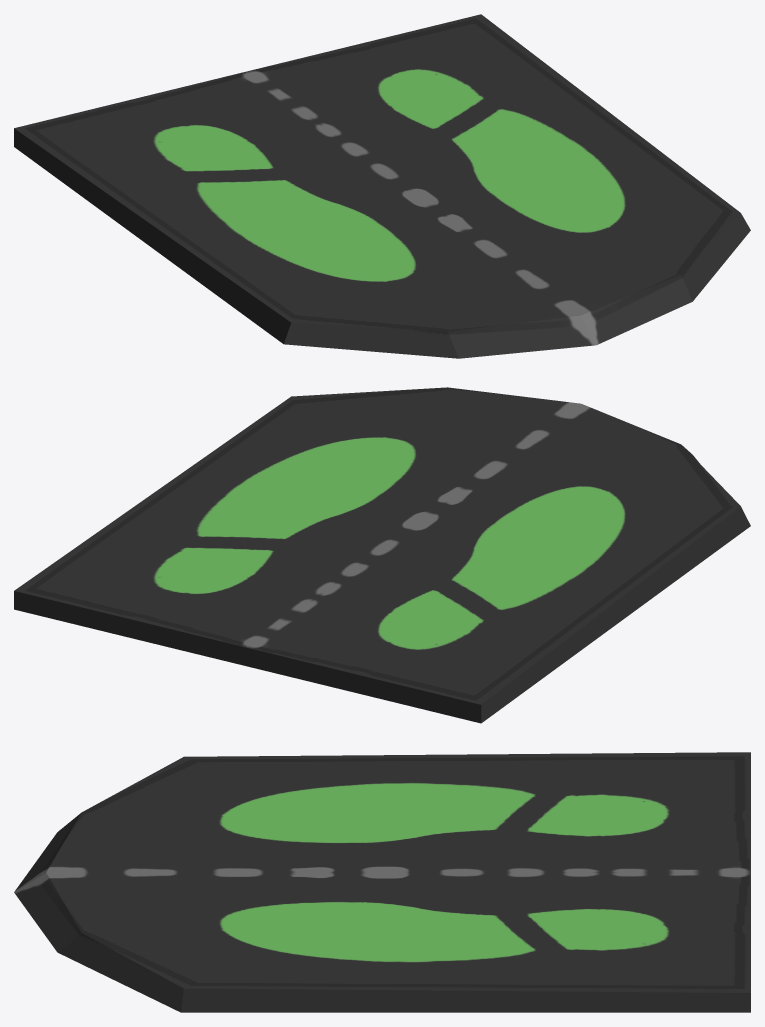
3 renders of one model, top to bottom at view 1: azimuth 30°, elevation 25°; view 2: azimuth 150°, elevation 25°; view 3: azimuth 270°, elevation 25°, orthographic. The views are drawn at different scales.
Parts seen in each view (by area): view 1: uns; view 2: uns; view 3: uns.
Part boxes in pixels (left/top/right/bottom): uns: left=14, top=14, right=750, bottom=358; uns: left=14, top=387, right=750, bottom=723; uns: left=14, top=752, right=750, bottom=1012.
Bounding box in the file's own units: 50 × 1.91 × 64.67.
Materials: 1 (1 with a texture image).
